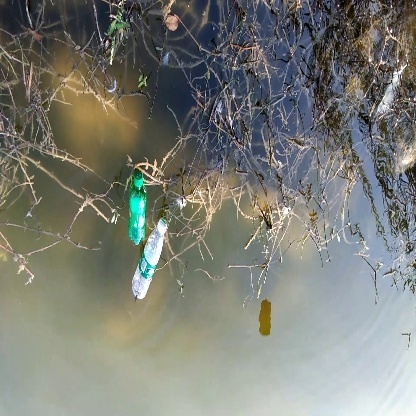bottle: (127, 218, 173, 303), (124, 171, 149, 244)
